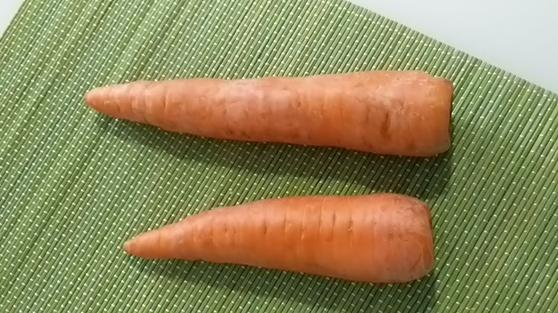carrot: (84, 70, 452, 157), (124, 192, 434, 283)
